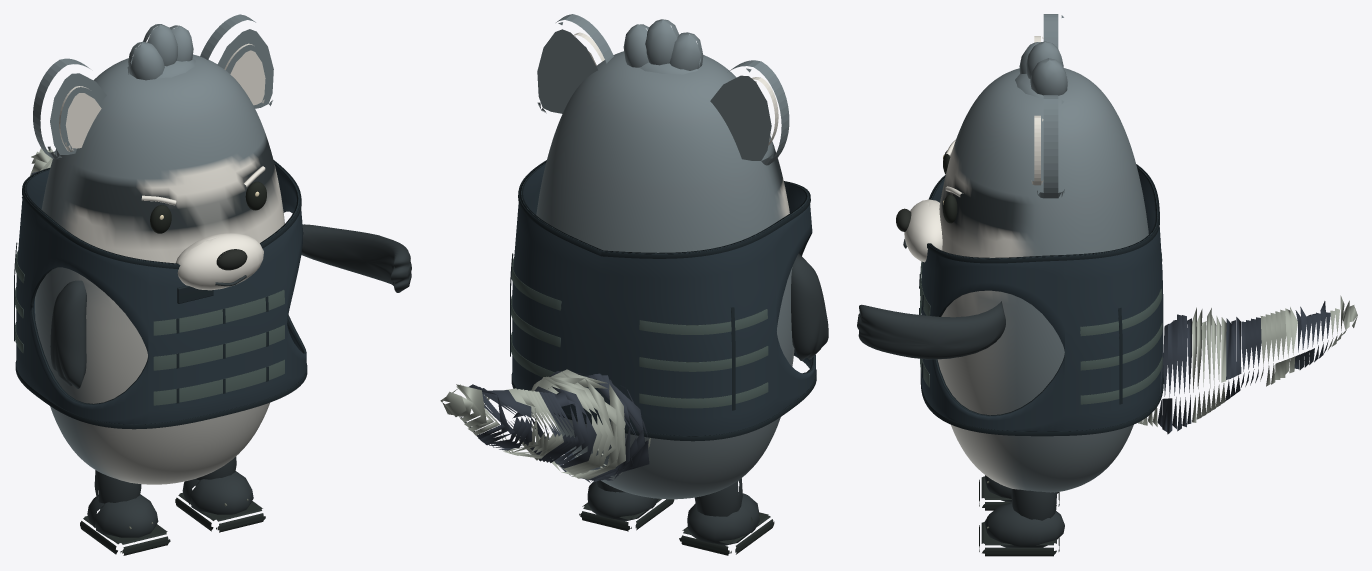
Rendered from species-grips-raccoon-aim-character.glb.
The picture shows the model from 3 angles, left to right: view 1: azimuth 30°, elevation 25°; view 2: azimuth 150°, elevation 25°; view 3: azimuth 270°, elevation 25°; orthographic projection. The views are drawn at different scales.
Parts seen in each view (by area): view 1: raccoon_torso_mesh, raccoon_vest_refined_mesh, raccoon_leftFoot_mesh, raccoon_rightArm_mesh, raccoon_leftEar_mesh, raccoon_snout_mesh, raccoon_rightFoot_mesh, raccoon_rightEar_mesh, raccoon_leftArm_mesh, raccoon_crestShort_mesh, raccoon_leftEye_mesh, raccoon_rightEye_mesh; view 2: raccoon_vest_refined_mesh, raccoon_torso_mesh, raccoon_tail_mesh, raccoon_leftEar_mesh, raccoon_leftFoot_mesh, raccoon_rightEar_mesh, raccoon_crestShort_mesh, raccoon_leftArm_mesh, raccoon_rightFoot_mesh; view 3: raccoon_torso_mesh, raccoon_vest_refined_mesh, raccoon_tail_mesh, raccoon_rightArm_mesh, raccoon_rightFoot_mesh, raccoon_crestShort_mesh, raccoon_rightEar_mesh, raccoon_snout_mesh, raccoon_leftFoot_mesh.
Boxes of the visible parts, bbox=[...] form: raccoon_torso_mesh: bbox=[35, 54, 284, 484]; raccoon_vest_refined_mesh: bbox=[14, 160, 307, 429]; raccoon_leftFoot_mesh: bbox=[80, 470, 170, 555]; raccoon_rightArm_mesh: bbox=[301, 224, 411, 292]; raccoon_leftEar_mesh: bbox=[33, 58, 106, 159]; raccoon_snout_mesh: bbox=[176, 233, 263, 290]; raccoon_rightFoot_mesh: bbox=[175, 456, 265, 532]; raccoon_rightEar_mesh: bbox=[200, 14, 273, 108]; raccoon_leftArm_mesh: bbox=[50, 280, 86, 388]; raccoon_crestShort_mesh: bbox=[127, 24, 195, 80]; raccoon_leftEye_mesh: bbox=[150, 205, 171, 233]; raccoon_rightEye_mesh: bbox=[245, 181, 266, 210]; raccoon_vest_refined_mesh: bbox=[510, 160, 816, 441]; raccoon_torso_mesh: bbox=[536, 51, 794, 499]; raccoon_tail_mesh: bbox=[440, 369, 650, 482]; raccoon_leftEar_mesh: bbox=[710, 60, 789, 165]; raccoon_leftFoot_mesh: bbox=[679, 478, 774, 555]; raccoon_rightEar_mesh: bbox=[537, 14, 613, 113]; raccoon_crestShort_mesh: bbox=[623, 19, 703, 74]; raccoon_leftArm_mesh: bbox=[791, 253, 828, 360]; raccoon_rightFoot_mesh: bbox=[579, 480, 674, 531]; raccoon_torso_mesh: bbox=[937, 68, 1148, 492]; raccoon_vest_refined_mesh: bbox=[919, 164, 1163, 436]; raccoon_tail_mesh: bbox=[1138, 295, 1357, 434]; raccoon_rightArm_mesh: bbox=[857, 301, 1005, 359]; raccoon_rightFoot_mesh: bbox=[979, 489, 1064, 556]; raccoon_crestShort_mesh: bbox=[1015, 41, 1069, 97]; raccoon_rightEar_mesh: bbox=[1031, 95, 1064, 198]; raccoon_snout_mesh: bbox=[896, 199, 942, 262]; raccoon_leftFoot_mesh: bbox=[979, 475, 1059, 510].
Size of the model in its own units: 1.25 by 1.98 by 1.86.
